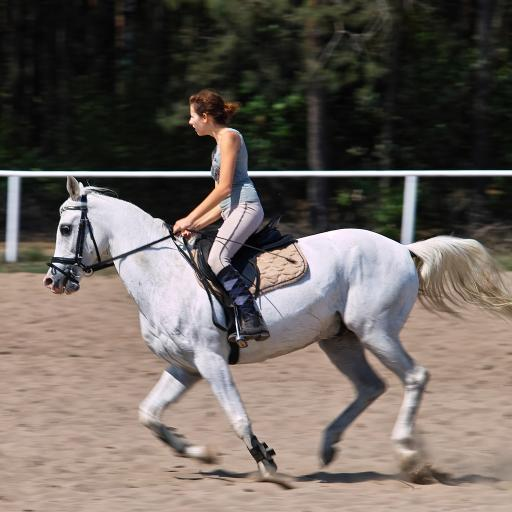horse: (41, 172, 512, 482)
